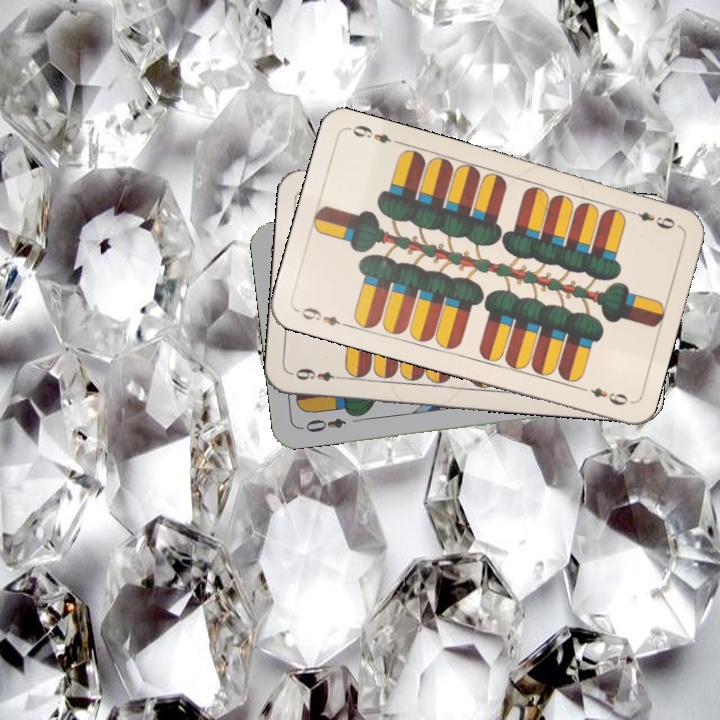E9: (293, 303, 351, 330), (623, 206, 681, 232), (288, 364, 348, 384)
EO: (296, 414, 348, 435)
